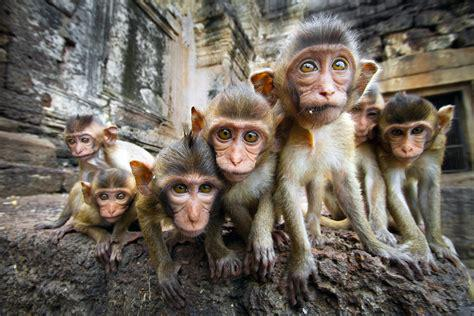monkey: (250, 18, 423, 304), (130, 136, 241, 308), (191, 89, 285, 278), (380, 93, 454, 275), (36, 168, 135, 274), (64, 115, 154, 176), (350, 83, 384, 146)
